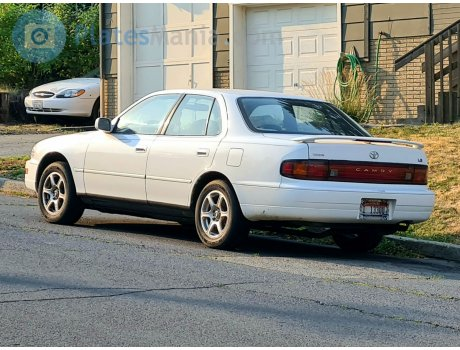license plate: (362, 200, 389, 218)
